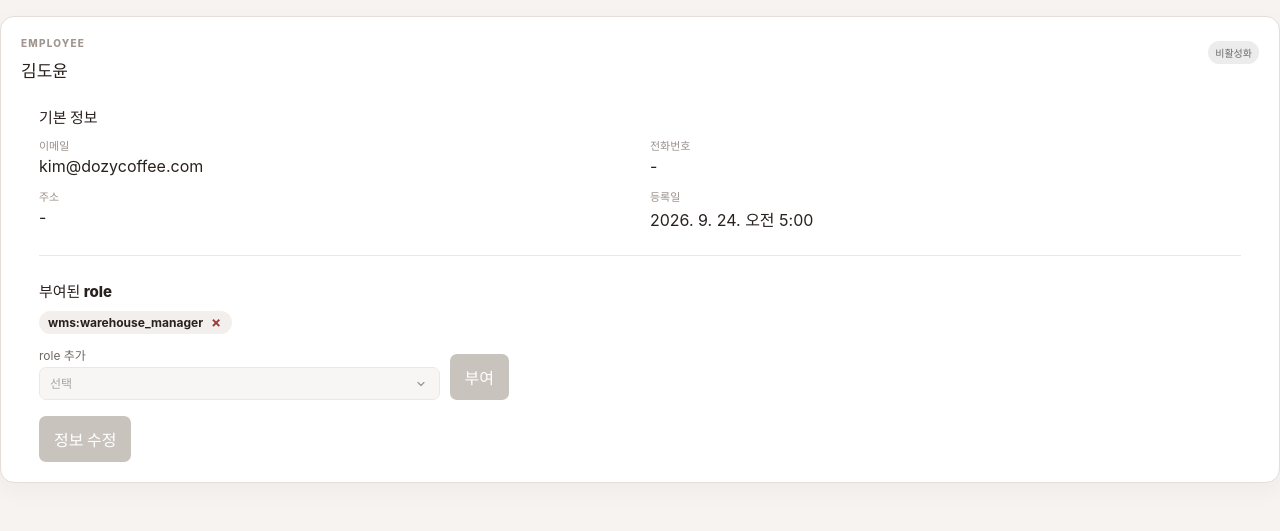
Scenario: EmployeeDetail 상태별 작업 › 비활성화된 직원은 정보 수정 버튼이 비활성이고 툴팁으로 이유를 안내한다
Hover over the element "정보 수정" at (85, 439), box 39,416 -> 131,462
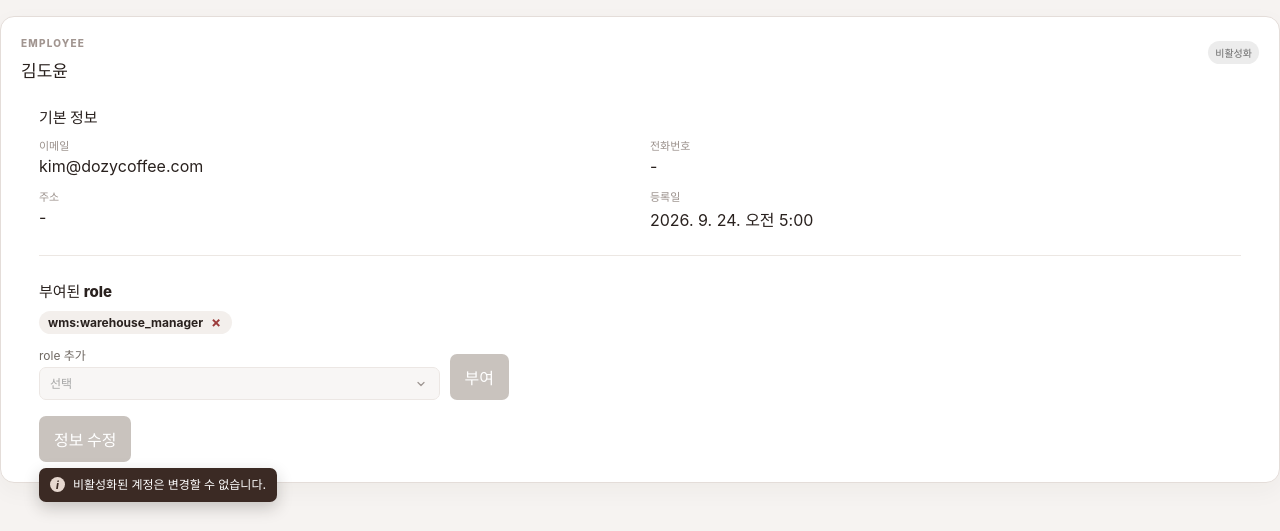
expect the tooltip reads "비활성화된 계정은 변경할 수 없습니다.": met, box 73,477 -> 266,492
